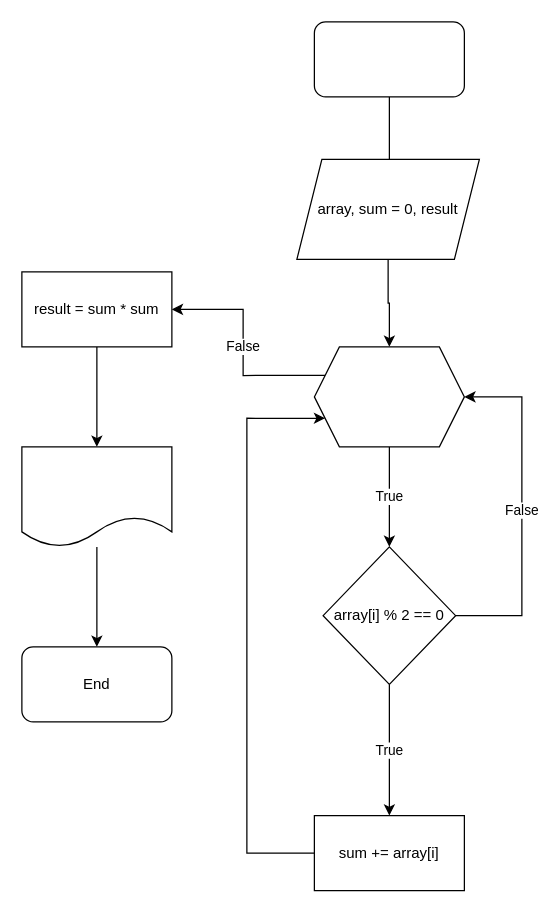
This 560x913 diagram has some shape labels left out. The shapes that lost their labels are listed below. From the top down, each one's centre as x and y in pixels, then its label:
At (388,59): "Start".
At (388,396): "i = 0; i < array.length; i++".
At (96,496): "result".
